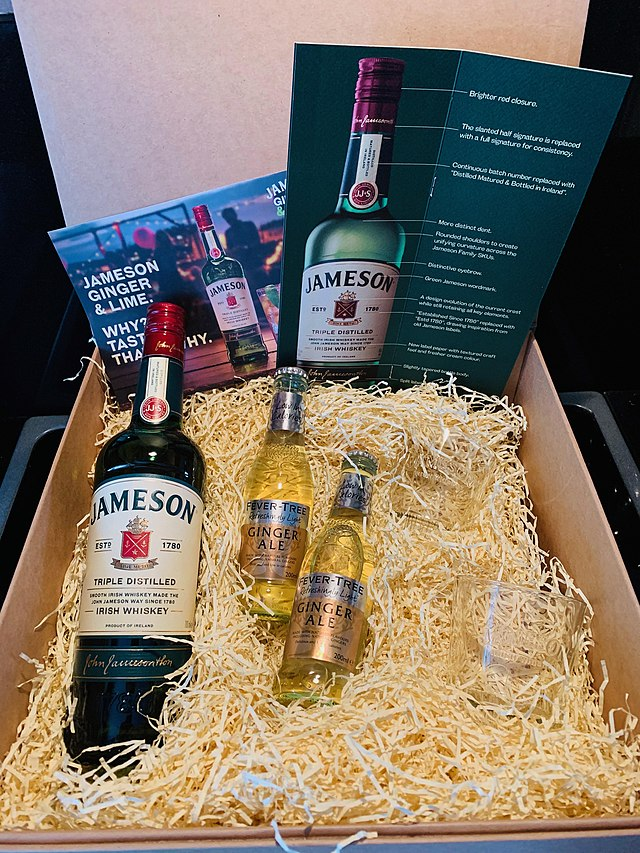Jameson: (57, 297, 211, 782)
